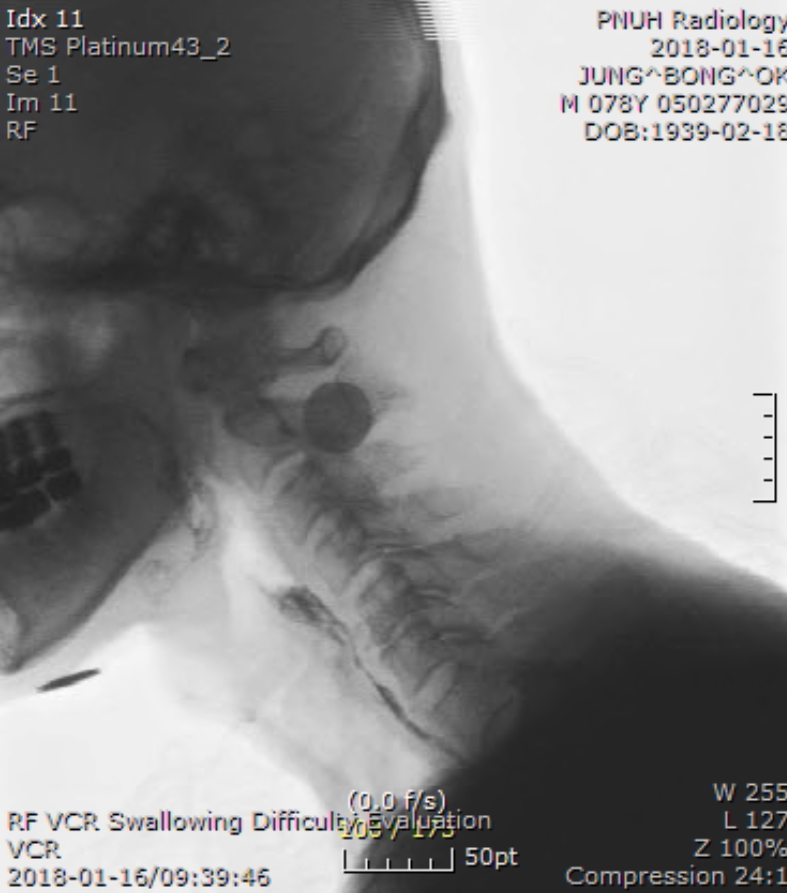dros: (250, 563, 315, 620)
food: (247, 554, 386, 672)
uros: (171, 500, 236, 552)
